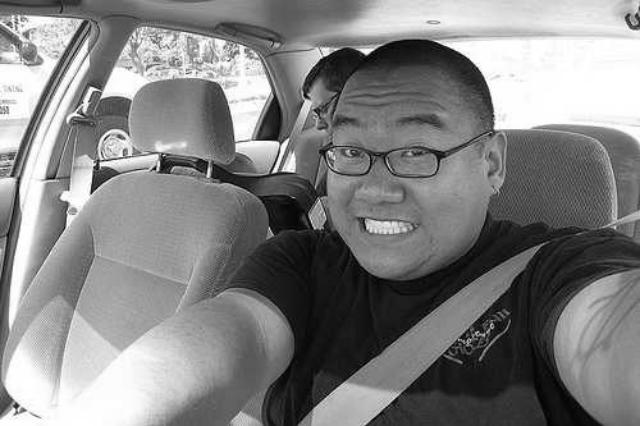SafeDriving: (392, 134, 438, 165), (331, 134, 373, 165)
Seatbelt: (292, 202, 640, 426)
